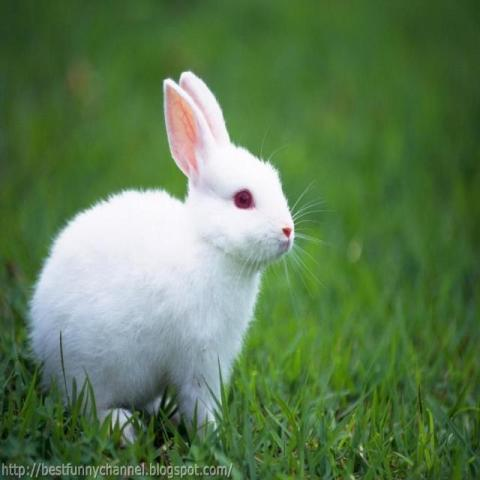small_animal: (24, 69, 321, 449)
